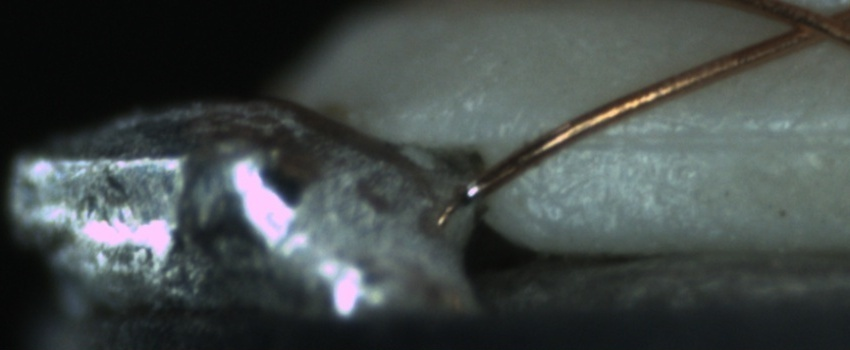CL: (770, 3, 846, 52)
DL: (565, 102, 847, 173)
